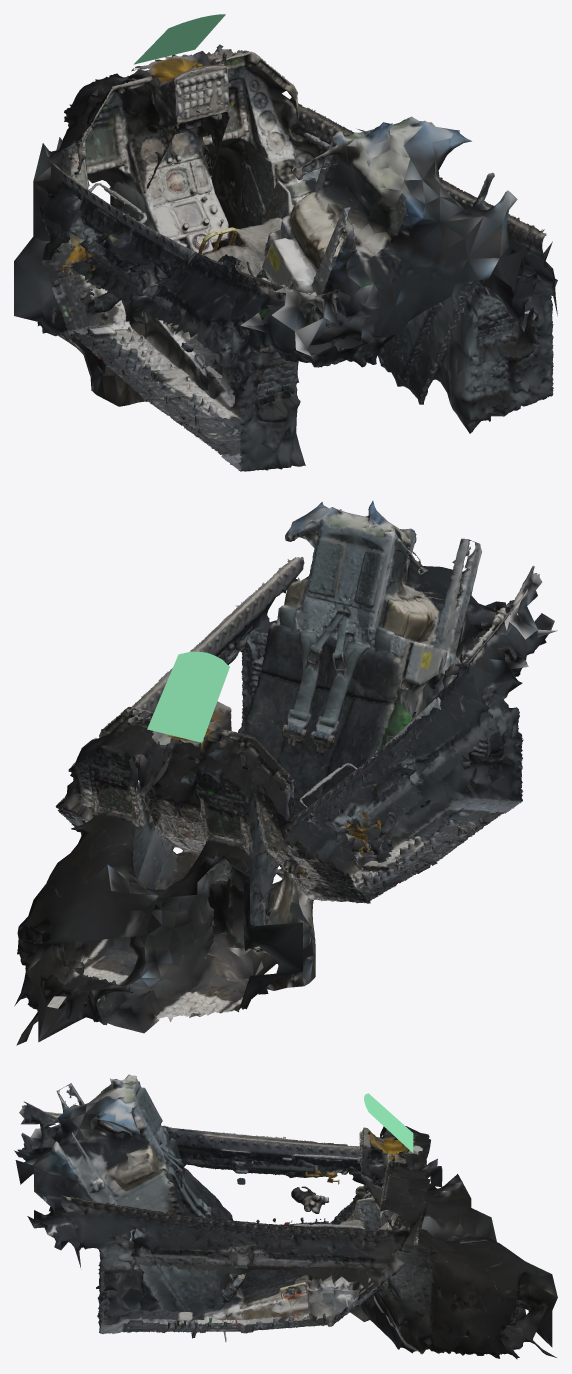
The model's file is f16-cockpit.gltf.
3 renders of one model, top to bottom at view 1: azimuth 30°, elevation 25°; view 2: azimuth 150°, elevation 25°; view 3: azimuth 270°, elevation 25°, orthographic. The views are drawn at different scales.
Parts seen in each view (by area): view 1: CockpitScan, HudGlass; view 2: CockpitScan, HudGlass; view 3: CockpitScan, HudGlass.
Boxes of the visible parts, <box> form: CockpitScan: <box>14,44,557,471</box>; HudGlass: <box>134,14,225,64</box>; CockpitScan: <box>14,501,557,1045</box>; HudGlass: <box>147,651,229,742</box>; CockpitScan: <box>14,1074,557,1359</box>; HudGlass: <box>364,1093,413,1152</box>.
Bounding box in the file's own units: 0.9559 × 1.09 × 2.06.
2 materials, 1 textured.
